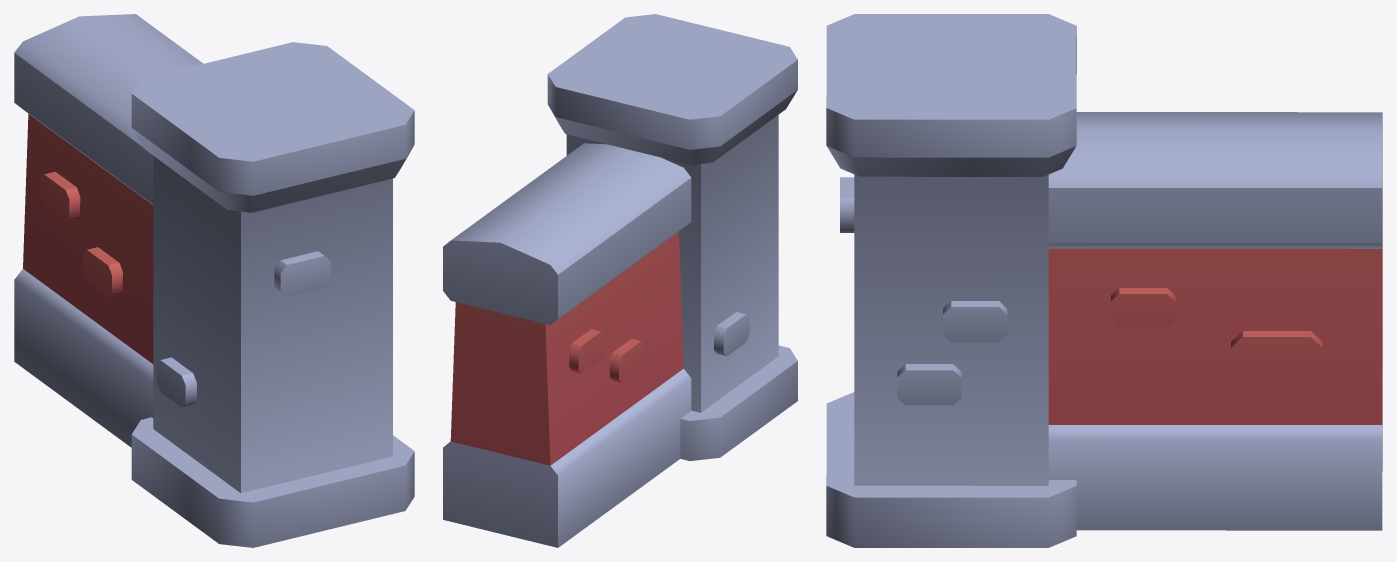
File: brick-wall-end.014_lev2.glb
3 renders of one model, left to right at view 1: azimuth 30°, elevation 25°; view 2: azimuth 150°, elevation 25°; view 3: azimuth 270°, elevation 25°, orthographic. The views are drawn at different scales.
Visible parts, largest first — view 1: brick-wall-end.014_lev2; view 2: brick-wall-end.014_lev2; view 3: brick-wall-end.014_lev2.
Boxes of the visible parts, <box> form: brick-wall-end.014_lev2: <box>14,14,414,547</box>; brick-wall-end.014_lev2: <box>443,14,797,547</box>; brick-wall-end.014_lev2: <box>826,14,1382,547</box>.
Size of the model in its own units: 3.6 by 6.8 by 8.
1 material, 1 textured.
